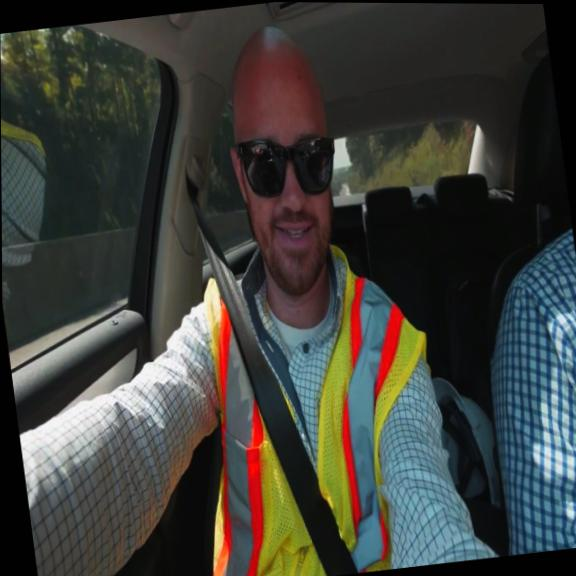safety_vest: (164, 233, 459, 576), (0, 38, 46, 161)
